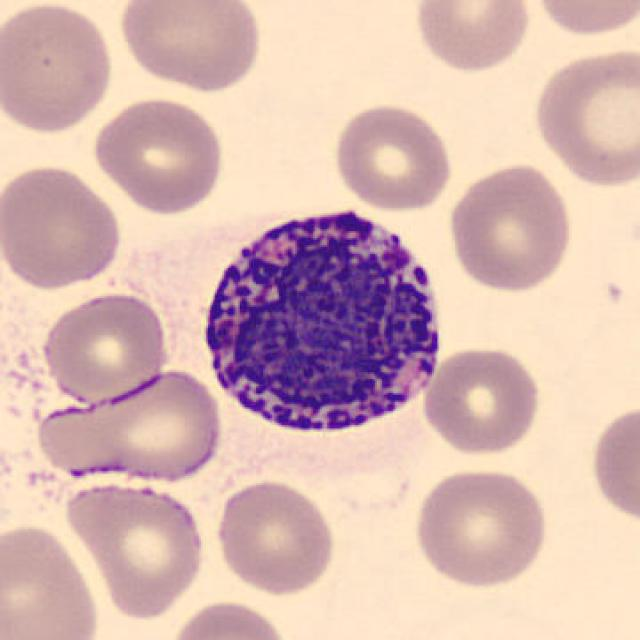Basophil: (191, 190, 454, 446)
RBC: (60, 478, 210, 620), (51, 365, 228, 485), (444, 158, 576, 294), (411, 464, 551, 590), (89, 93, 227, 217), (0, 160, 126, 292), (528, 42, 638, 190), (0, 0, 117, 136), (212, 476, 340, 598), (39, 287, 173, 402), (420, 342, 544, 458), (331, 100, 457, 214), (114, 0, 265, 93), (0, 520, 103, 640), (409, 0, 535, 76), (587, 397, 638, 529), (165, 597, 293, 640), (528, 0, 638, 39)
